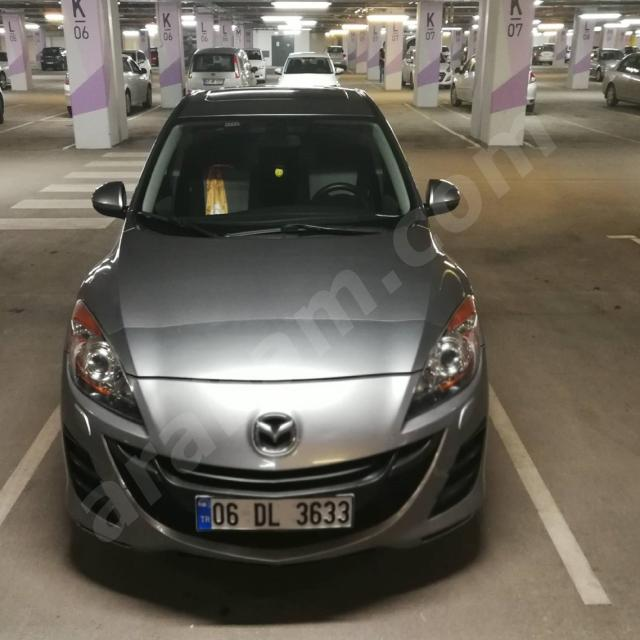license_plate: (195, 494, 352, 530)
